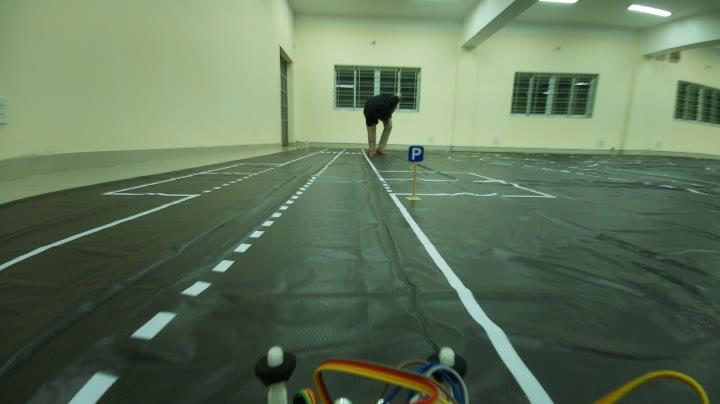parking: (404, 140, 424, 166)
